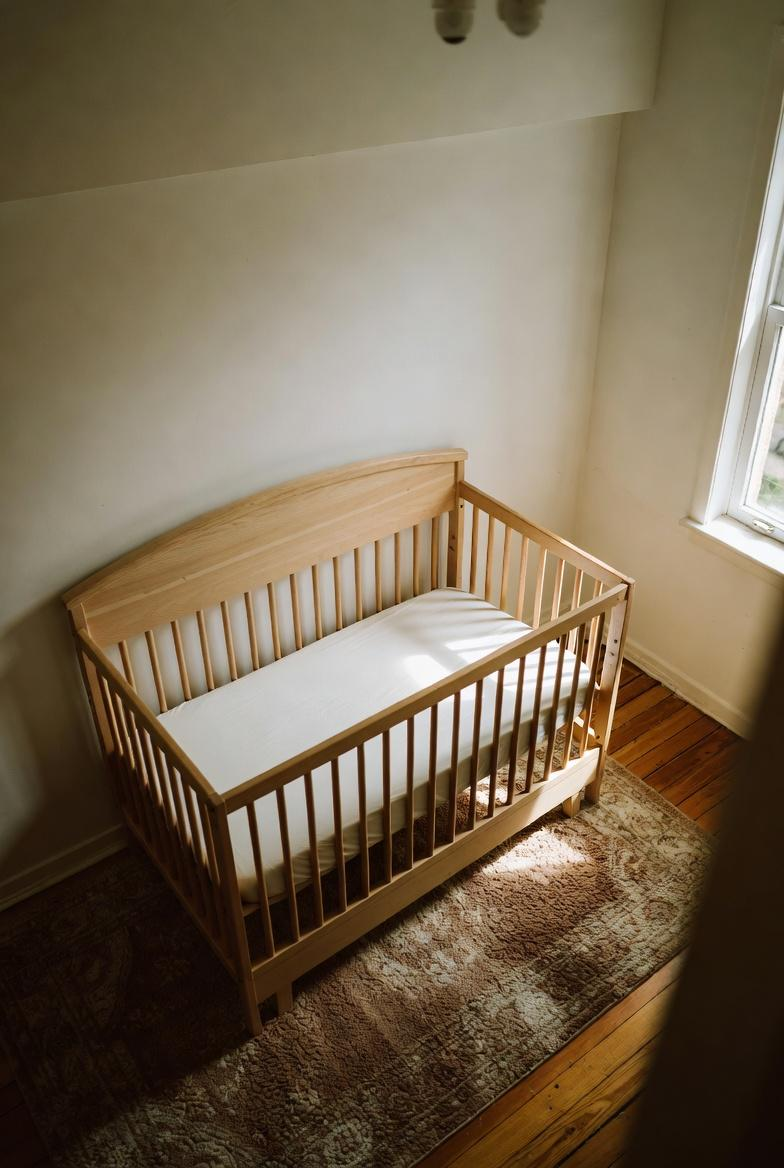crib: (64, 450, 632, 1033)
